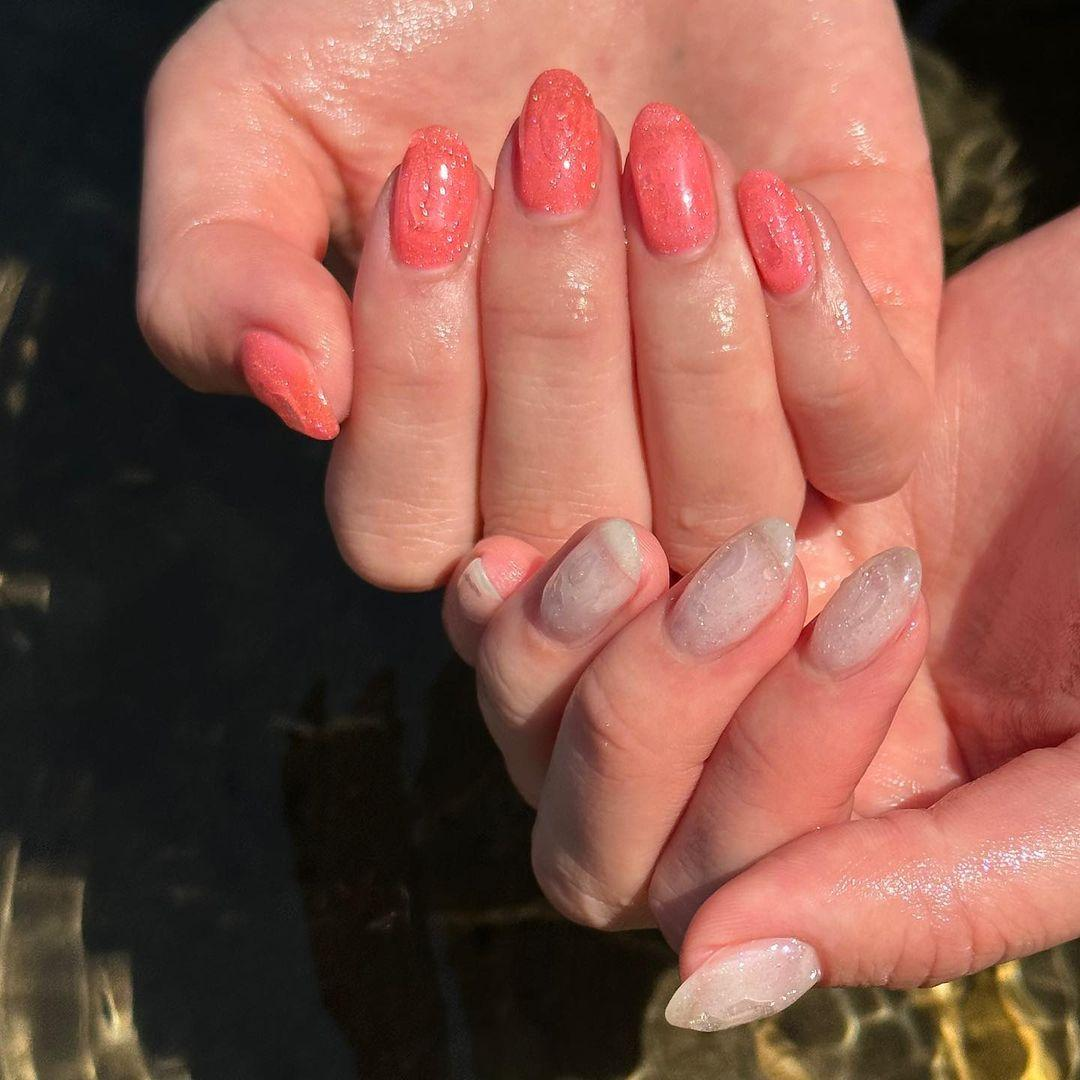nail: (663, 515, 796, 660), (663, 935, 822, 1033), (805, 544, 922, 677), (626, 99, 719, 261), (537, 516, 643, 646), (512, 66, 601, 217), (387, 124, 477, 270), (237, 326, 340, 441), (735, 168, 818, 299), (461, 533, 544, 603)
